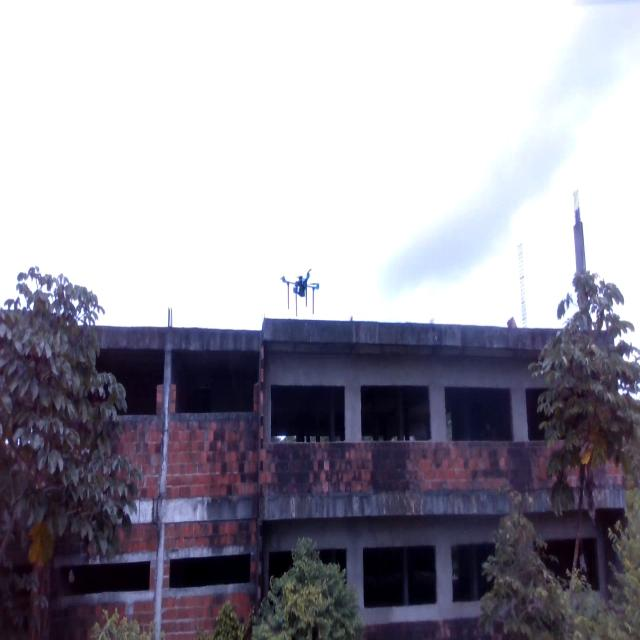-uav-: (278, 259, 324, 323)
